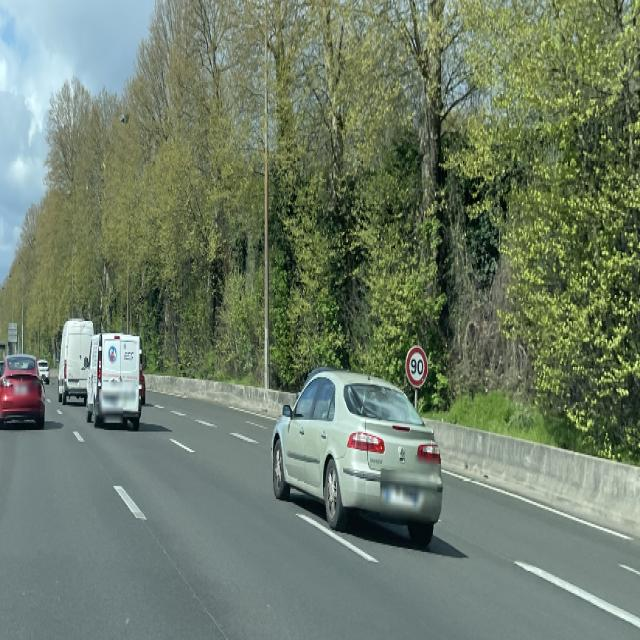speed_90: (404, 344, 430, 389)
